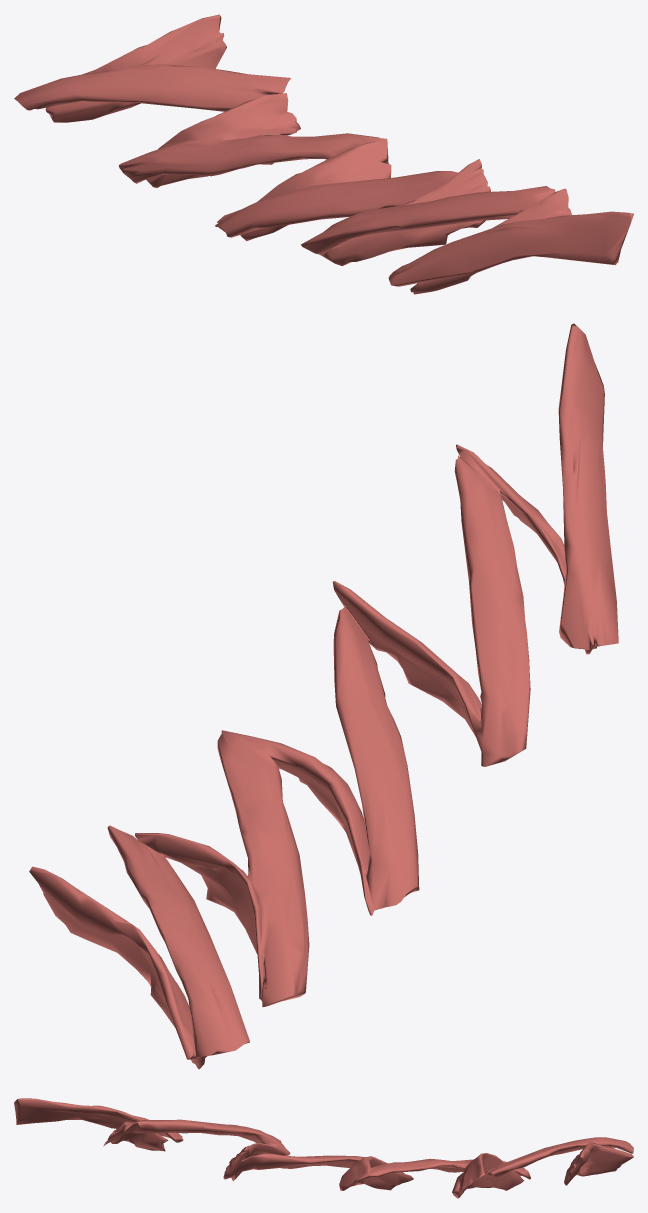
3 renders of one model, top to bottom at view 1: azimuth 30°, elevation 25°; view 2: azimuth 150°, elevation 25°; view 3: azimuth 270°, elevation 25°, orthographic. The views are drawn at different scales.
Visible parts, largest first — view 1: 右侧腰多裂肌; view 2: 右侧腰多裂肌; view 3: 右侧腰多裂肌.
Part boxes in pixels (x1,y1,x2,y2): 右侧腰多裂肌: (14, 14, 633, 294); 右侧腰多裂肌: (29, 323, 618, 1069); 右侧腰多裂肌: (14, 1098, 633, 1198).
Bounding box in the file's own units: 0.0628 × 0.0583 × 0.2379.
